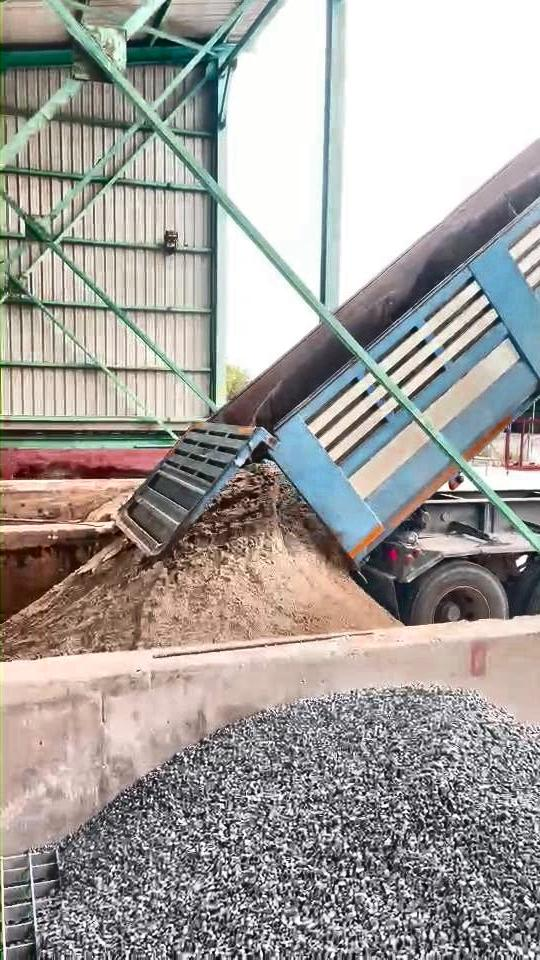gravel: (39, 688, 540, 959)
sand: (3, 465, 395, 658), (86, 496, 125, 520)
